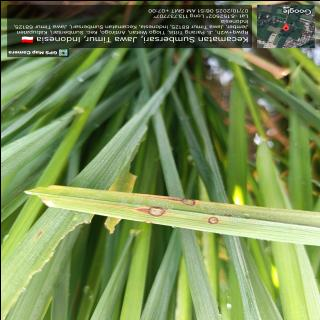Blast: (145, 204, 164, 217), (204, 213, 221, 226), (178, 196, 195, 206)
